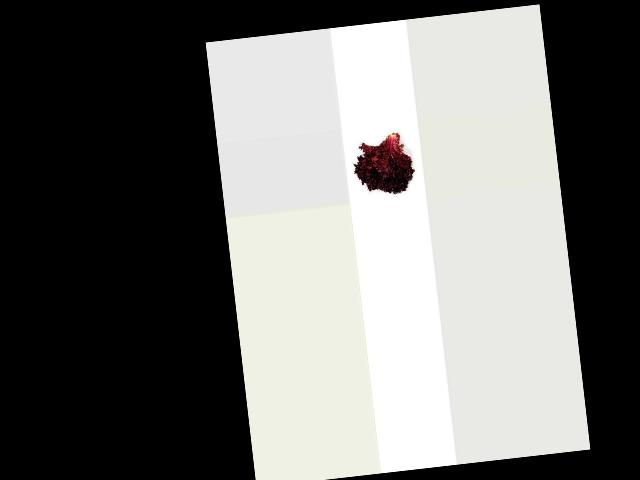lettuce: (348, 125, 414, 201)
